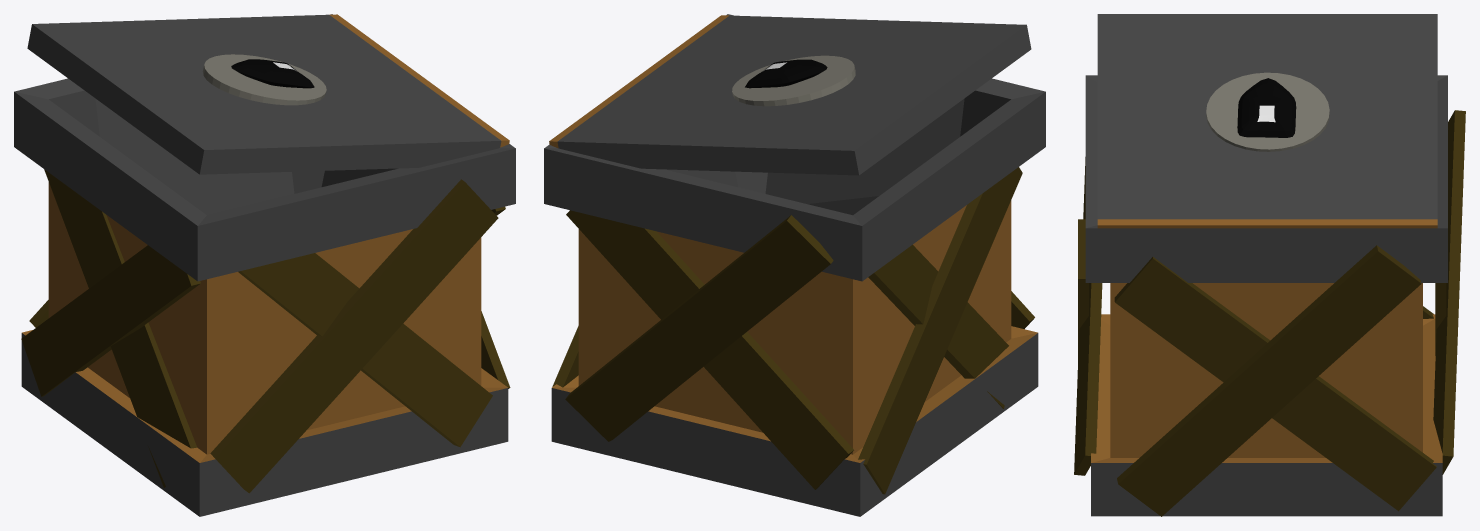
The model's file is crate_tomato.fbx.
3 views of the same model, side by side, from view 1: azimuth 30°, elevation 25°; view 2: azimuth 150°, elevation 25°; view 3: azimuth 270°, elevation 25° (orthographic).
Visible parts, largest first — view 1: Crate, Lid, Cube.004, Cube.003, Cube.005, Cube.006, Cylinder, Cube, Cube.007; view 2: Crate, Lid, Cube.002, Cube.001, Cube.005, Cube.006, Cylinder, Cube, Cube.008; view 3: Lid, Crate, Cube.007, Cube.008, Cube.002, Cylinder, Cube.003, Cube, Cube.004, Cube.001.
Boxes of the visible parts, x1,y1,x2,y2 form: Crate: (14,14,515,516); Lid: (27,14,509,174); Cube.004: (210,179,498,493); Cube.003: (238,253,492,447); Cube.005: (21,245,200,396); Cube.006: (44,169,197,487); Cylinder: (202,54,326,105); Cube: (231,59,314,88); Cube.007: (481,311,510,388); Crate: (544,14,1045,516); Lid: (549,15,1031,175); Cube.002: (565,215,833,441); Cube.001: (566,210,853,489); Cube.005: (858,167,1022,494); Cube.006: (868,244,1008,408); Cylinder: (732,55,855,106); Cube: (745,59,827,88); Cube.008: (552,326,578,387); Lid: (1097,14,1437,228); Crate: (1085,75,1447,516); Cube.007: (1117,245,1421,516); Cube.008: (1114,257,1436,511); Cube.002: (1433,110,1465,474); Cylinder: (1206,72,1329,151); Cube.003: (1074,157,1102,475); Cube: (1237,78,1296,137); Cube.004: (1078,219,1088,360); Cube.001: (1435,283,1446,355).
Bounding box in the file's own units: 818 × 847 × 841.
